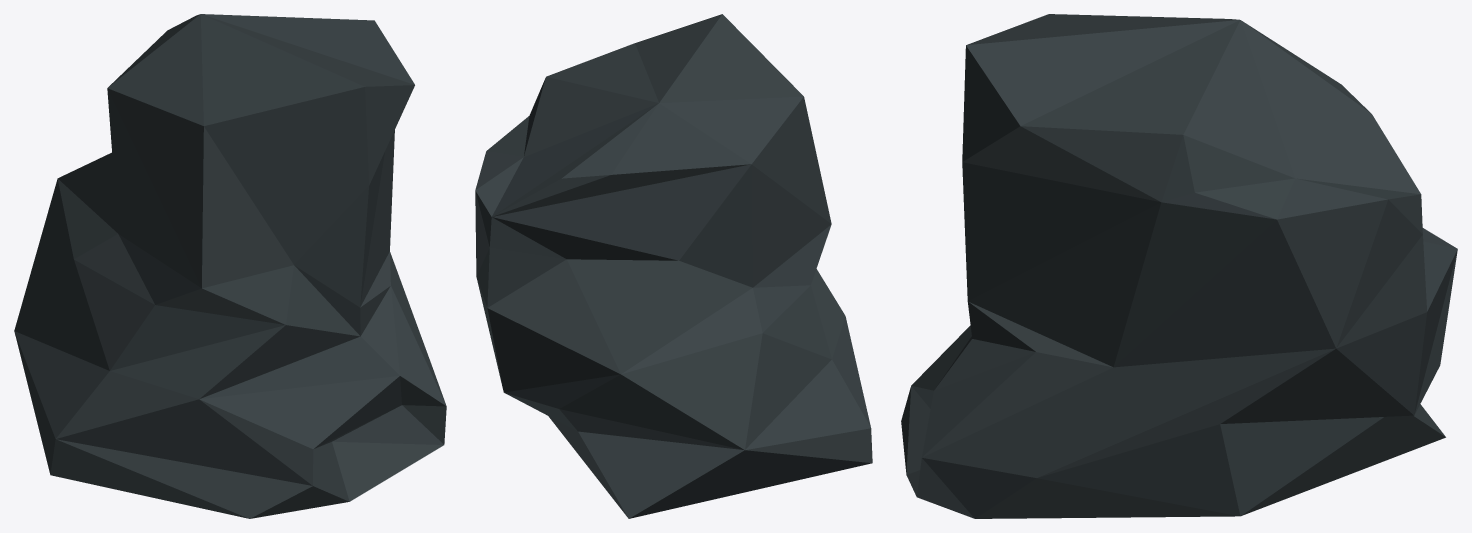
The model's file is Rock4.fbx.
3 renders of one model, left to right at view 1: azimuth 30°, elevation 25°; view 2: azimuth 150°, elevation 25°; view 3: azimuth 270°, elevation 25°, orthographic. The views are drawn at different scales.
Visible parts, largest first — view 1: Rock4; view 2: Rock4; view 3: Rock4.
Boxes of the visible parts, x1,y1,x2,y2 form: Rock4: [14, 14, 446, 518]; Rock4: [475, 14, 872, 518]; Rock4: [901, 14, 1457, 518].
Bounding box in the file's own units: 14.15 × 14.26 × 15.77.
